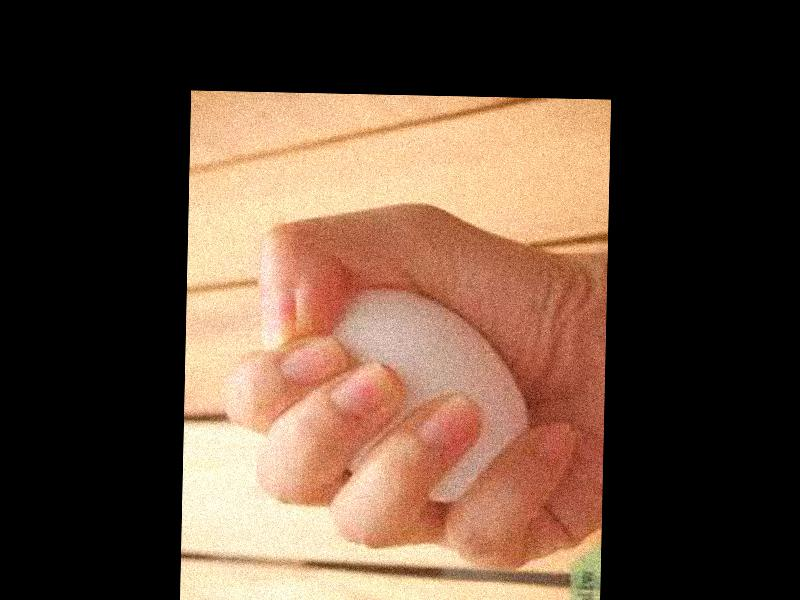Eggs: (329, 285, 531, 505)
